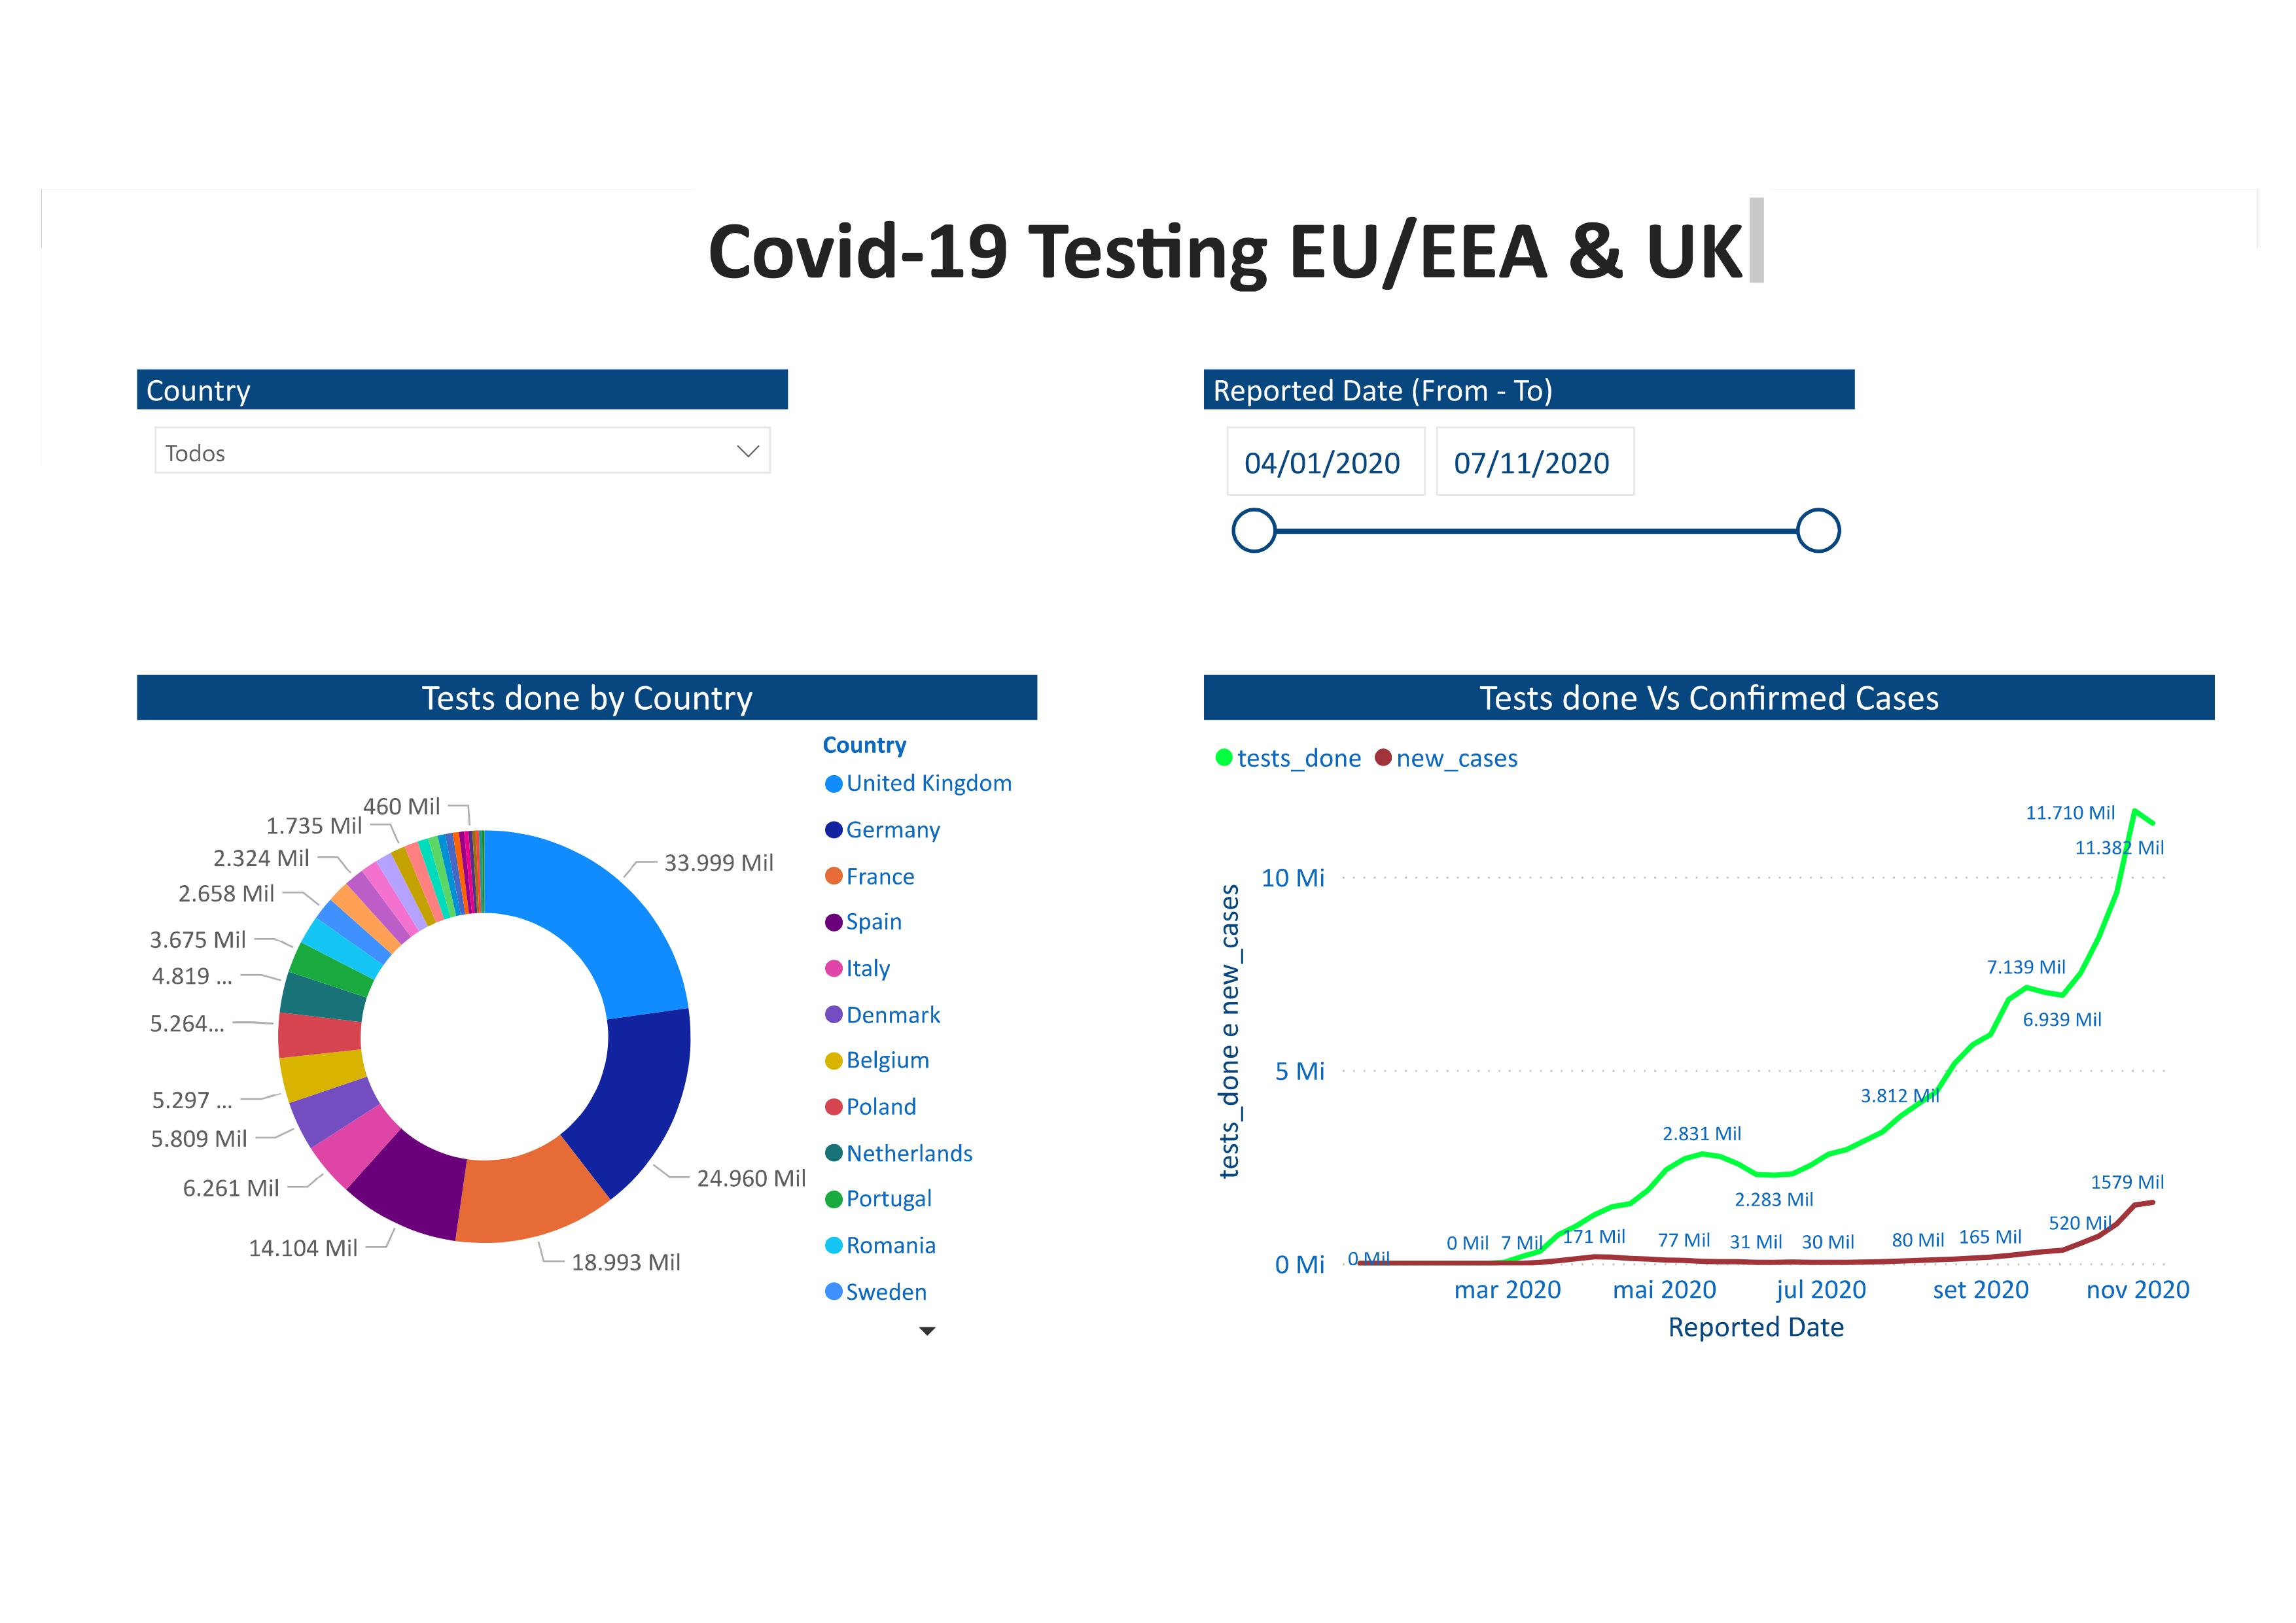

What the dashboard file says about the page in this screenshot:
{"tool":"powerbi","page":{"name":"Testing","canvas":[1280,720],"ordinal":2},"visuals":[{"type":"donutChart","title":"Tests done by Country","fields":{"Category":["covid_reporting testing.country"],"Y":["Sum(covid_reporting testing.tests_done)"]},"box":[56,280,520,392],"z":0},{"type":"lineChart","title":"Tests done Vs Confirmed Cases","fields":{"Category":["covid_reporting testing.week_end_date"],"Y":["Sum(covid_reporting testing.tests_done)","Sum(covid_reporting testing.new_cases)"]},"box":[672,280,584,392],"z":1000},{"type":"slicer","title":"Reported Date (From - To)","fields":{"Values":["covid_reporting testing.week_end_date"]},"box":[671.7,104.3,375.7,112],"z":2000},{"type":"slicer","title":"Country","fields":{"Values":["covid_reporting testing.country"]},"box":[56,104.3,375.7,119.7],"z":3000},{"type":"textbox","box":[376,0,624,64],"z":4000}]}

Visuals, with their boxes on the page's 1280x720 design canvas (x1, y1, x2, y2). These are canvas units, not pixel positions in the 2296x1623 screenshot, which may show the page scaled, cropped or inside an application window:
"Tests done by Country" donutChart: x1=56 y1=280 x2=576 y2=672
"Tests done Vs Confirmed Cases" lineChart: x1=672 y1=280 x2=1256 y2=672
"Reported Date (From - To)" slicer: x1=672 y1=104 x2=1047 y2=216
"Country" slicer: x1=56 y1=104 x2=432 y2=224
textbox: x1=376 y1=0 x2=1000 y2=64
